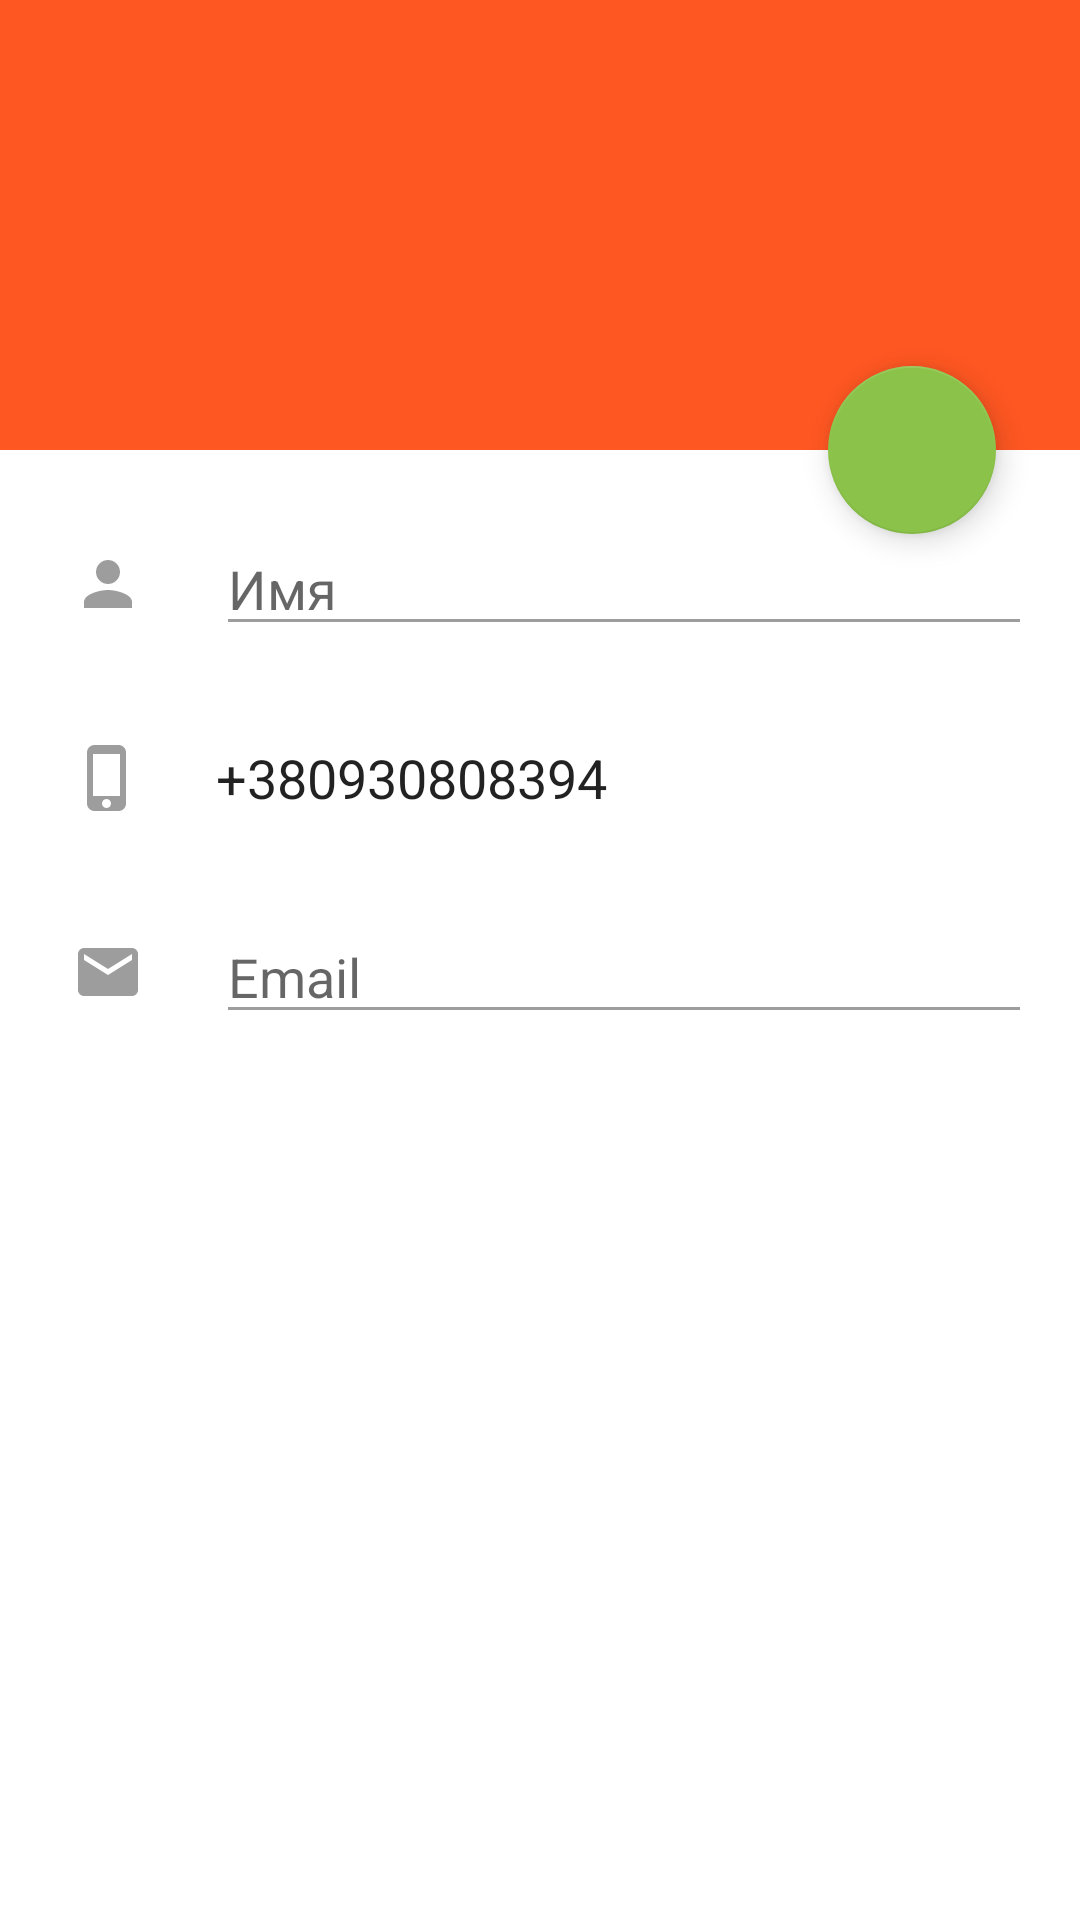

Icons on this 1080*1920 Android screen, each with its box as (x1, y1, x2, y2):
person: (84, 560, 132, 608)
phone iphone: (87, 745, 126, 811)
